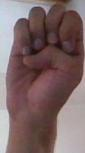E: (1, 0, 85, 122)
